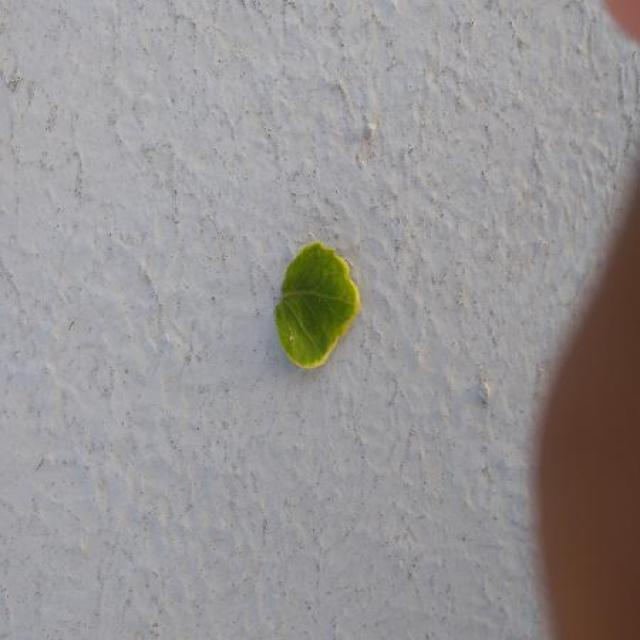Hibiscus: (275, 242, 360, 368)
